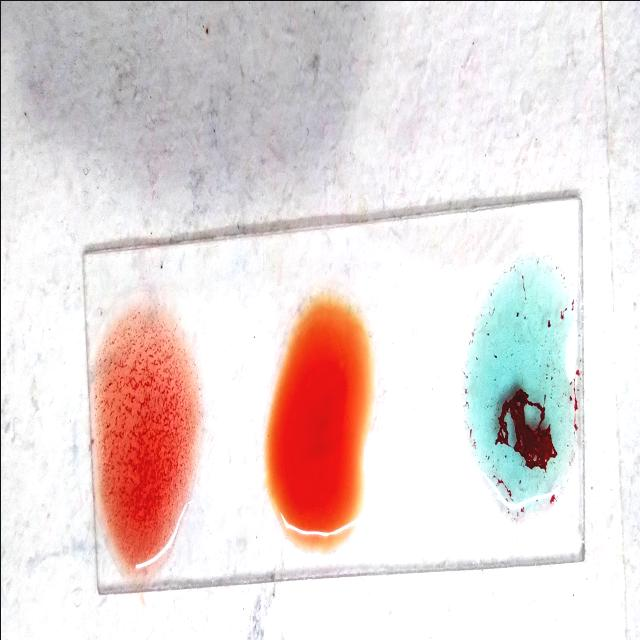A: (459, 251, 579, 524)
D: (94, 289, 195, 576)
